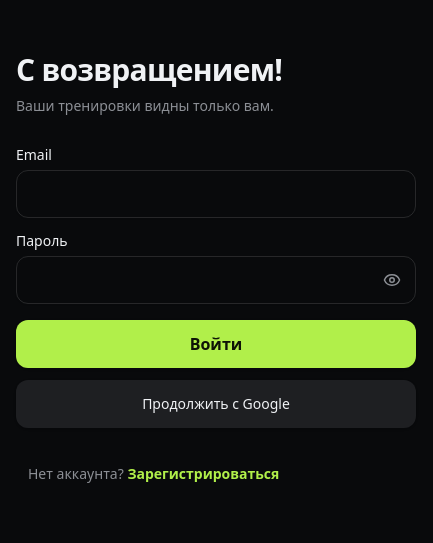
Test: toggles visibility independently for both password fields
Click the button "Нет аккаунта? Зарегистрироваться": (216, 474) [16, 452, 416, 496]
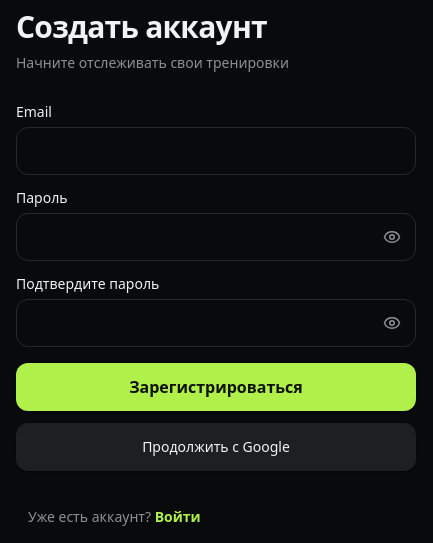
In the field labelled "Email": (216, 151) [16, 127, 416, 175], type "user@example.com"
In the password field labelled "Пароль": (216, 237) [16, 213, 416, 261], type "strong-pass"
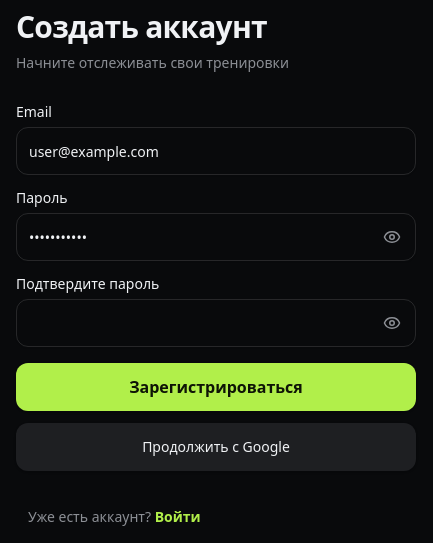
In the password field labelled "Подтвердите пароль": (216, 323) [16, 299, 416, 347], type "strong-pass"
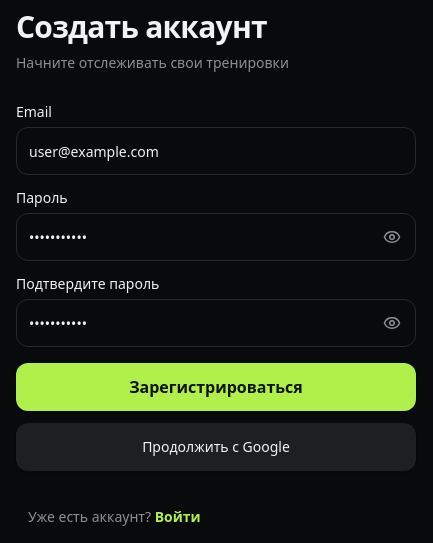
Click the button named "Показать пароль": (392, 237) [368, 213, 416, 261]
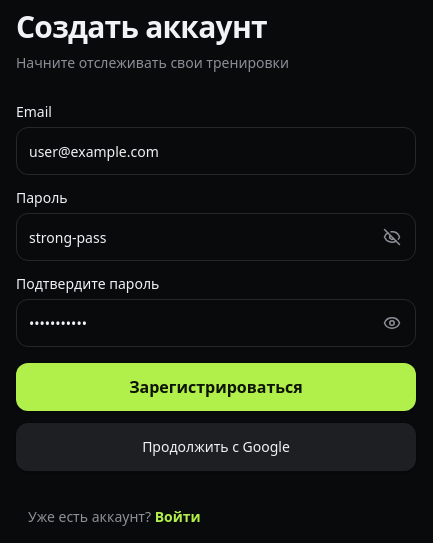
Expected: the field labelled "Пароль" shows its text, [16, 213, 416, 261]
Click the button named "Показать подтверждение пароля": (392, 323) [368, 299, 416, 347]
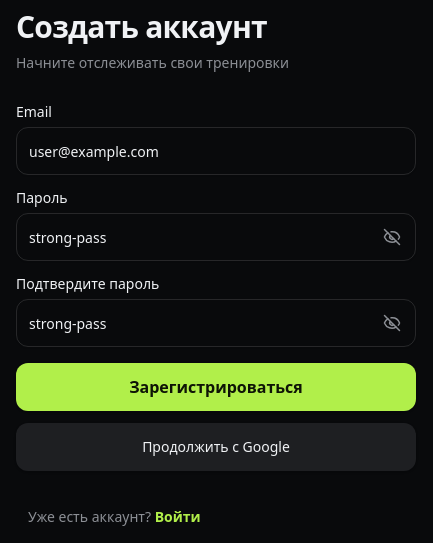
Expected: the field labelled "Подтвердите пароль" shows its text, [16, 299, 416, 347]
Click the button named "Скрыть пароль": (392, 237) [368, 213, 416, 261]
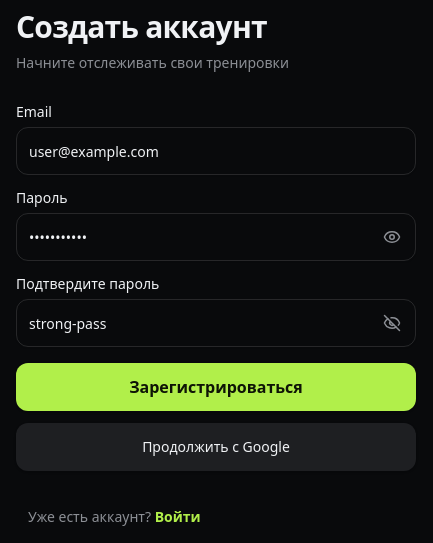
Expected: the password field labelled "Пароль" hides its text, [16, 213, 416, 261]
